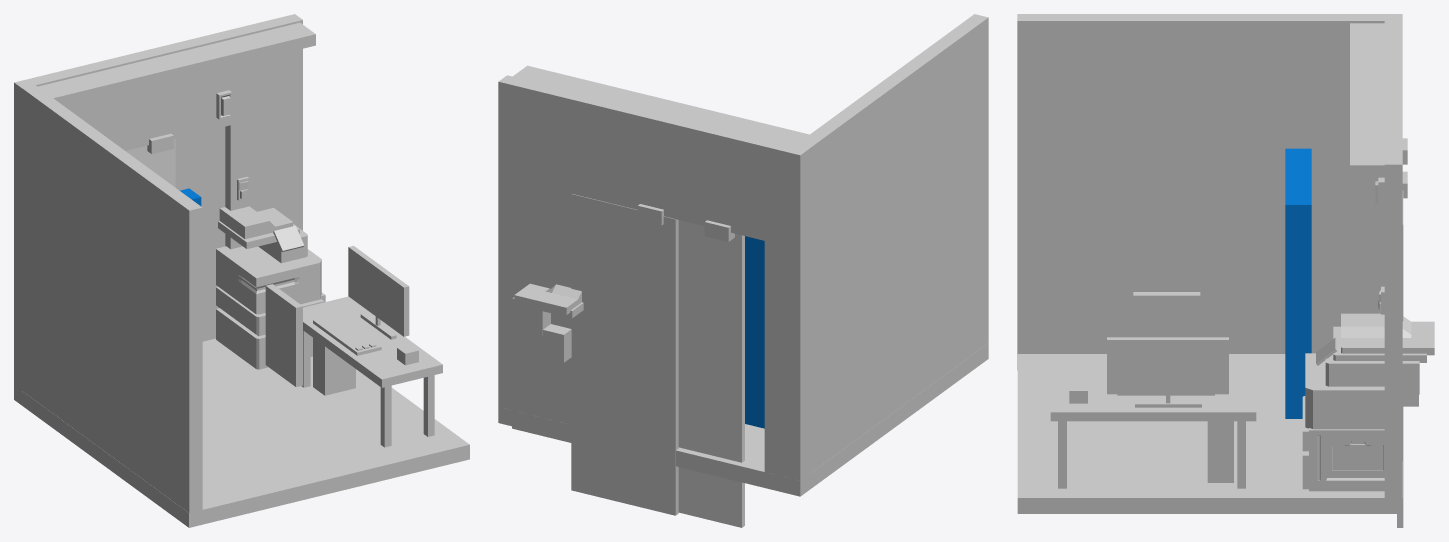
File: manager.glb
The picture shows the model from 3 angles, left to right: view 1: azimuth 30°, elevation 25°; view 2: azimuth 150°, elevation 25°; view 3: azimuth 270°, elevation 25°; orthographic projection. The views are drawn at different scales.
Visible parts, largest first — view 1: 평면.002, 평면, 평면.001, 큐브.017, 큐브.001, 큐브.007, 큐브.019, 큐브.024, 큐브.031, 큐브.004, 큐브.013, 큐브.012 (+8 smaller); view 2: 평면.002, 평면.001, 큐브.001, 큐브, 평면, 큐브.017, 큐브.030, 큐브.012, 큐브.009, 큐브.008; view 3: 평면.002, 평면, 평면.001, 큐브.024, 큐브.030, 큐브.019, 큐브.017, 큐브.005, 큐브.007, 큐브.031, 큐브.012, 큐브.008 (+5 smaller).
Part boxes in pixels (x1=…): 평면.002: x1=14, y1=79, x2=202, y2=527; 평면: x1=14, y1=338, x2=469, y2=527; 평면.001: x1=14, y1=14, x2=302, y2=404; 큐브.017: x1=38, y1=22, x2=315, y2=106; 큐브.001: x1=175, y1=126, x2=225, y2=341; 큐브.007: x1=216, y1=246, x2=321, y2=314; 큐브.019: x1=303, y1=296, x2=442, y2=387; 큐브.024: x1=348, y1=245, x2=409, y2=336; 큐브.031: x1=265, y1=284, x2=302, y2=386; 큐브.004: x1=216, y1=308, x2=312, y2=369; 큐브.013: x1=313, y1=338, x2=355, y2=395; 큐브.012: x1=219, y1=206, x2=292, y2=239; 평면.002: x1=786, y1=14, x2=988, y2=473; 평면.001: x1=498, y1=75, x2=809, y2=480; 큐브.001: x1=571, y1=194, x2=678, y2=515; 큐브: x1=678, y1=220, x2=744, y2=527; 평면: x1=498, y1=343, x2=988, y2=496; 큐브.017: x1=513, y1=65, x2=809, y2=145; 큐브.030: x1=745, y1=236, x2=764, y2=428; 큐브.012: x1=514, y1=283, x2=581, y2=314; 큐브.009: x1=533, y1=324, x2=571, y2=362; 큐브.008: x1=512, y1=297, x2=550, y2=335; 평면.002: x1=1017, y1=14, x2=1402, y2=369; 평면: x1=1017, y1=354, x2=1402, y2=513; 평면.001: x1=1384, y1=14, x2=1402, y2=513; 큐브.024: x1=1107, y1=337, x2=1228, y2=394; 큐브.030: x1=1285, y1=148, x2=1311, y2=418; 큐브.019: x1=1050, y1=379, x2=1256, y2=421; 큐브.017: x1=1350, y1=23, x2=1384, y2=177; 큐브.005: x1=1309, y1=428, x2=1384, y2=491; 큐브.007: x1=1305, y1=353, x2=1384, y2=429; 큐브.031: x1=1133, y1=292, x2=1200, y2=337; 큐브.012: x1=1341, y1=313, x2=1434, y2=355; 큐브.008: x1=1325, y1=354, x2=1419, y2=394.
Bounding box in the file's own units: 0.5 × 0.6179 × 0.585.
